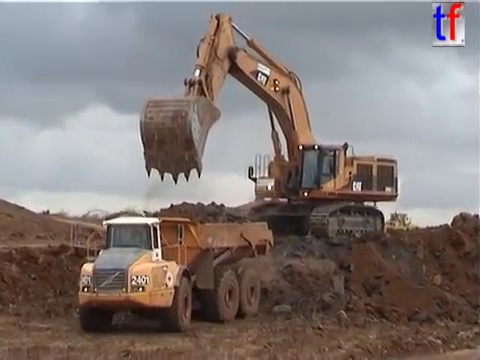excavator: (137, 10, 402, 247)
motor grader: (382, 209, 418, 235)
truck: (75, 212, 276, 334), (252, 186, 379, 231)
